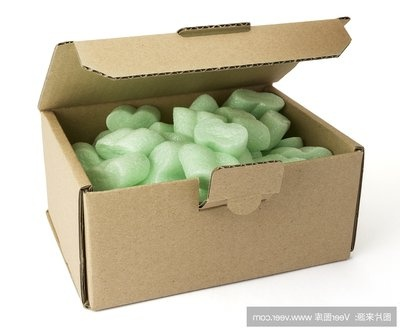5/可回收垃圾/泡沫: (72, 87, 334, 190)
